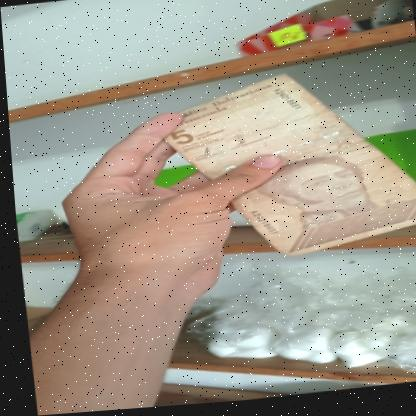five-front-vef: (155, 64, 416, 271)
